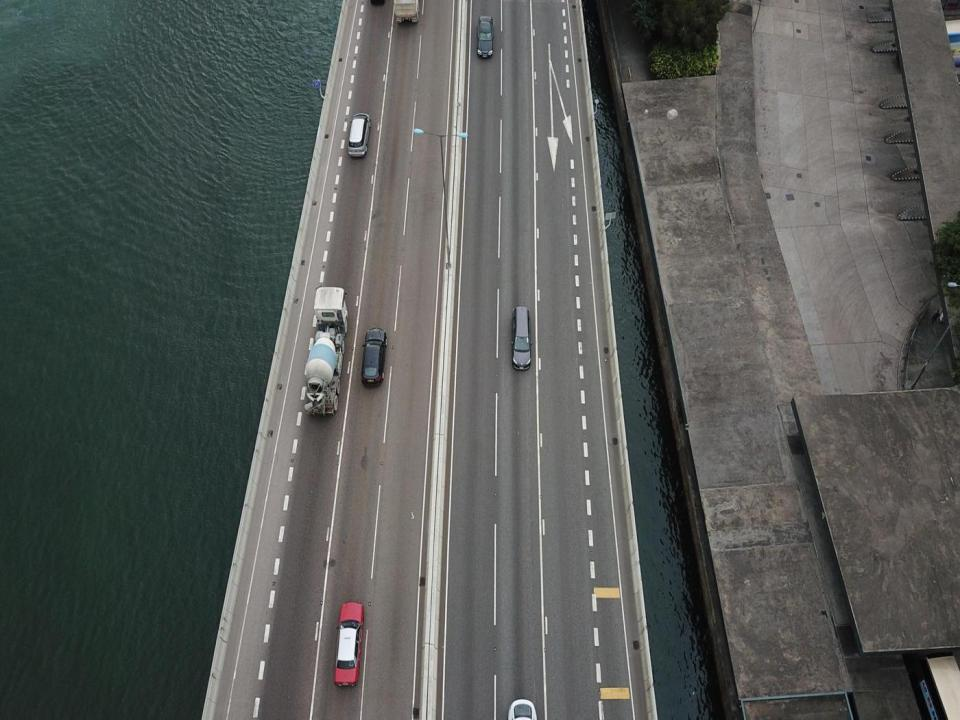car: (332, 600, 364, 689), (359, 328, 389, 387), (509, 305, 535, 373), (346, 112, 372, 157), (474, 14, 496, 60)
truck: (301, 282, 350, 417)
